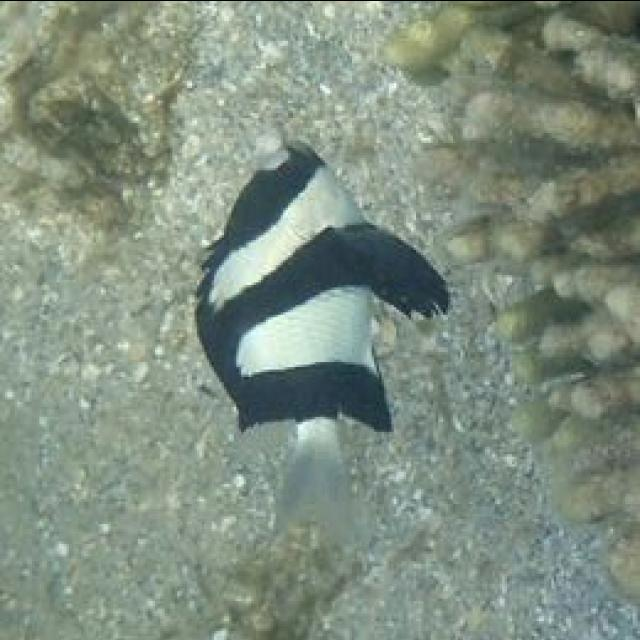ThreeStripedDamselfish: (197, 139, 453, 540)
